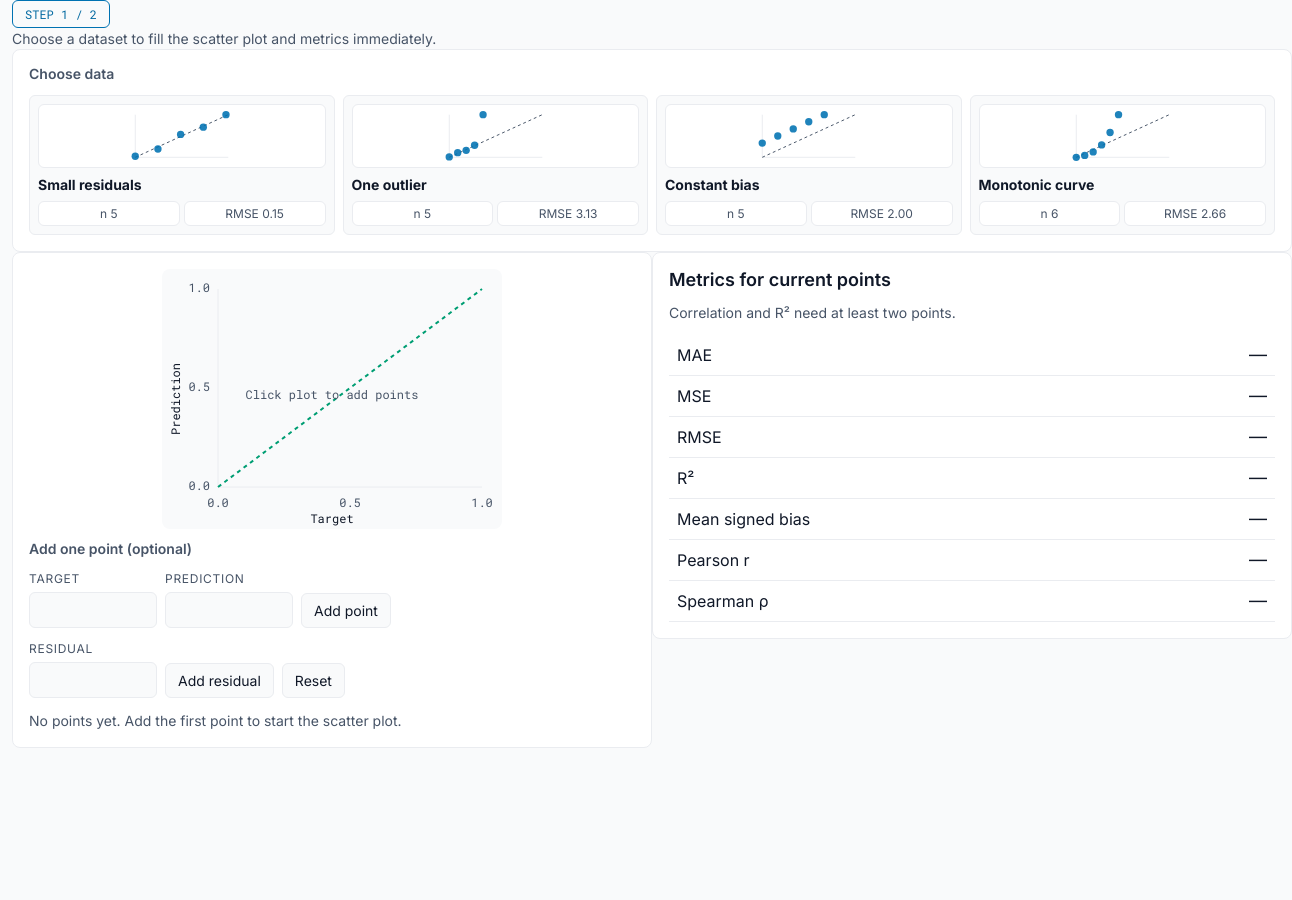
Scenario: RegressionPlayground › adds a point by clicking the plot
Press the mouse on the picture named "Metrics for current points": (332, 399) [29,269,635,529]
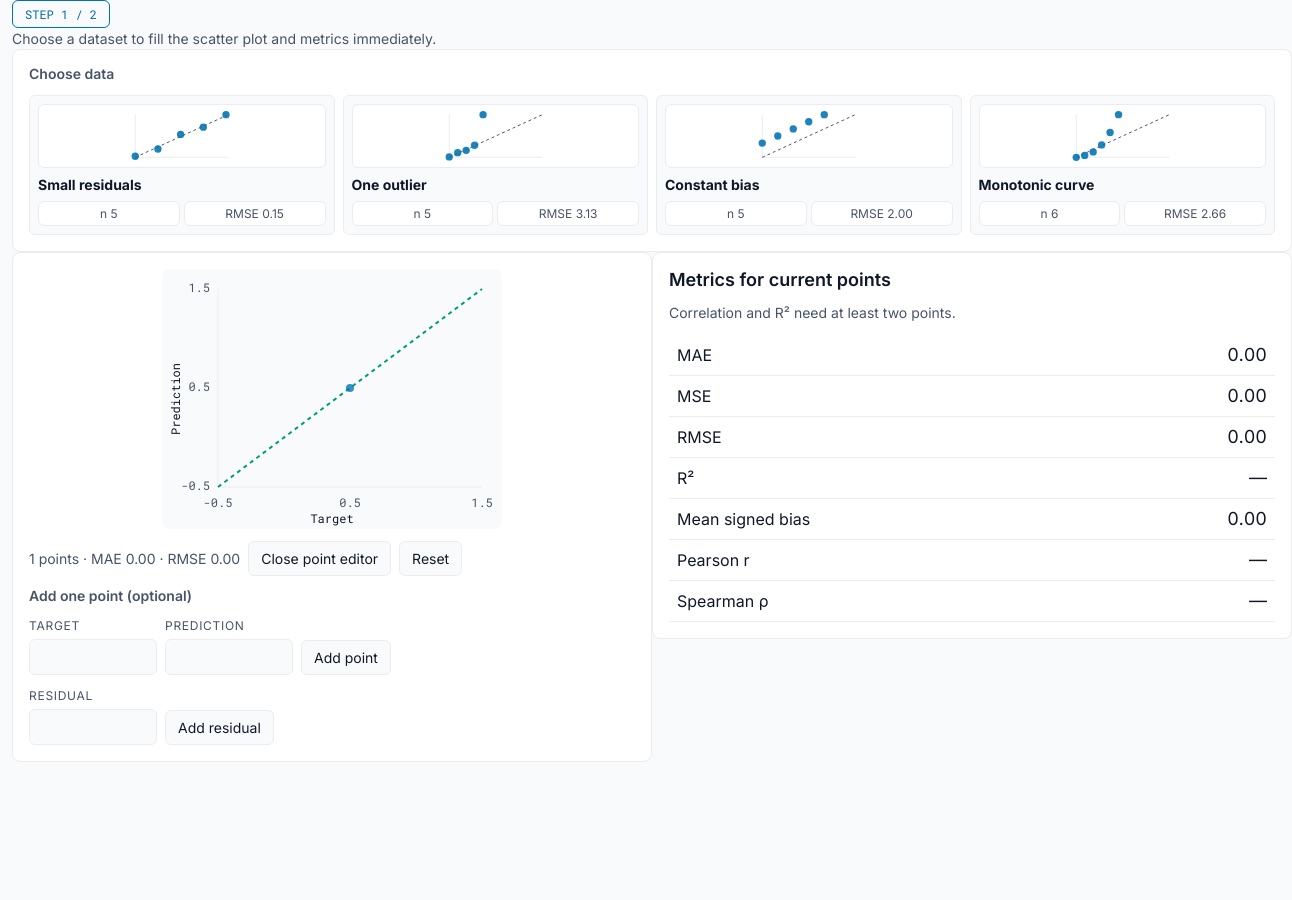
Expected: the text "1 points · MAE 0.00 · RMSE 0.00" is shown, [29,548,240,569]
